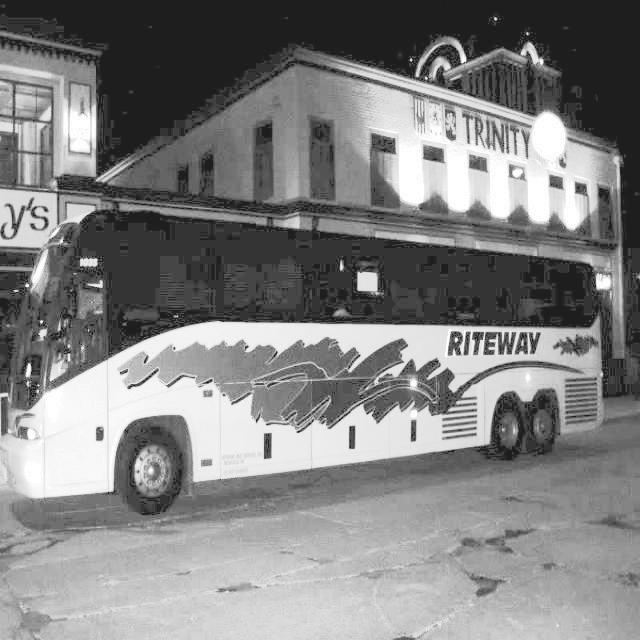Bus: (2, 153, 616, 523)
